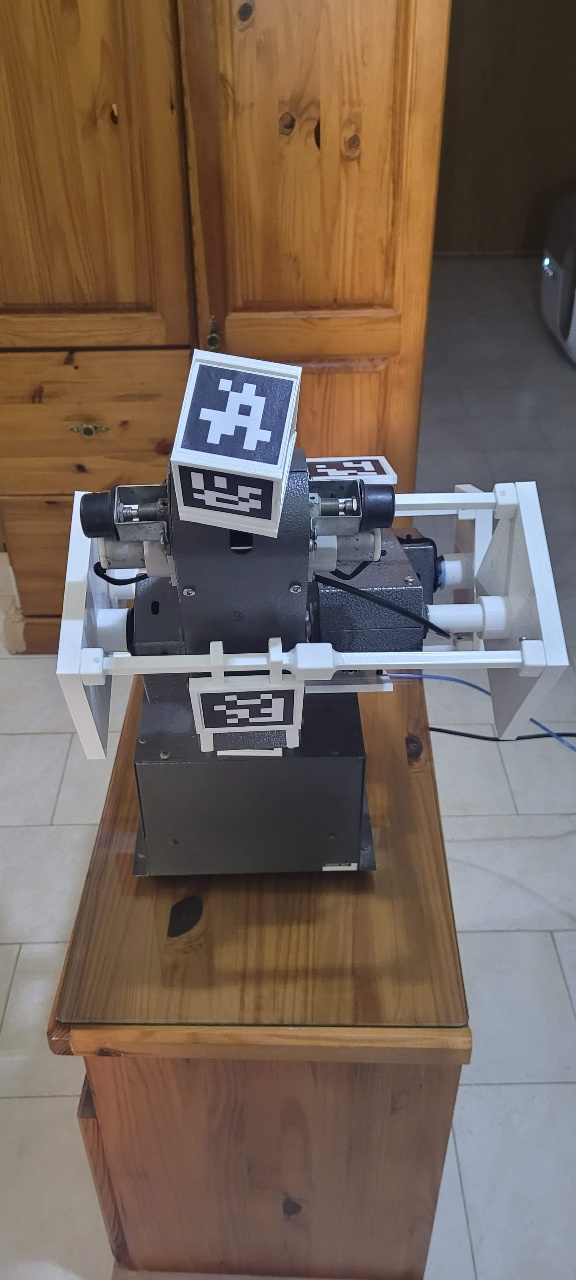Robot: (55, 346, 571, 761)
